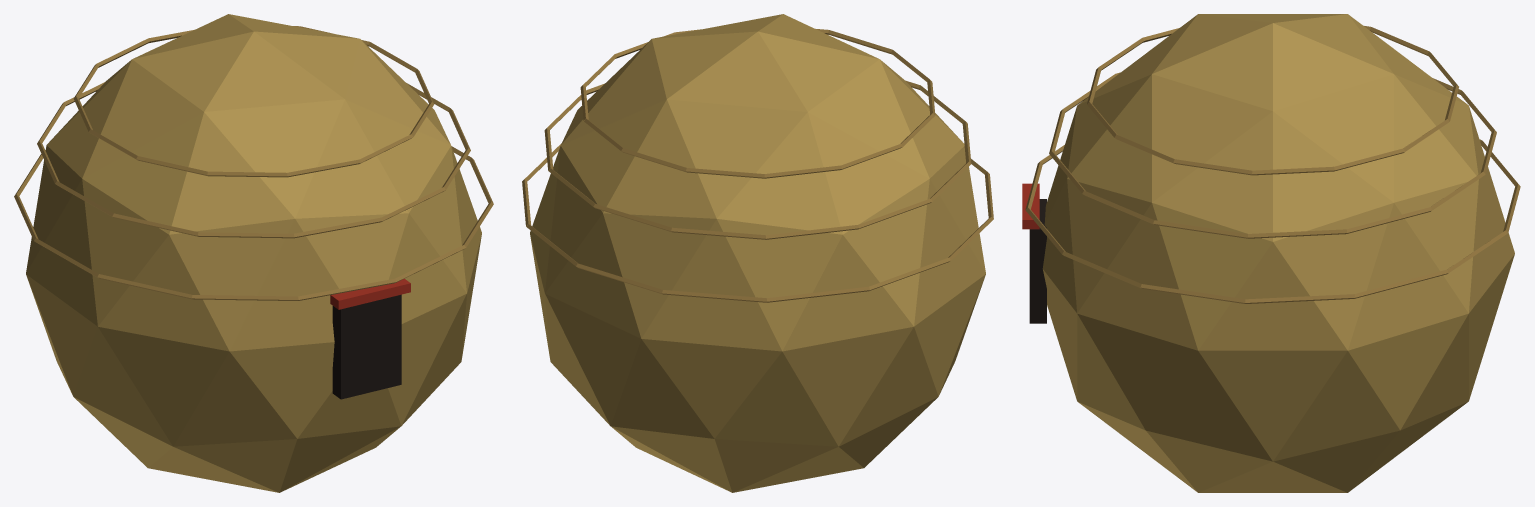
The model's file is elephant_house_a.glb.
The picture shows the model from 3 angles, left to right: view 1: azimuth 30°, elevation 25°; view 2: azimuth 150°, elevation 25°; view 3: azimuth 270°, elevation 25°; orthographic projection. The views are drawn at different scales.
Parts seen in each view (by area): view 1: elephant_house_a; view 2: elephant_house_a; view 3: elephant_house_a.
Part boxes in pixels (x1=…): elephant_house_a: x1=14, y1=14, x2=493, y2=492; elephant_house_a: x1=522, y1=14, x2=993, y2=492; elephant_house_a: x1=1022, y1=14, x2=1520, y2=492.
Bounding box in the file's own units: 2.86 × 2.94 × 2.88.
